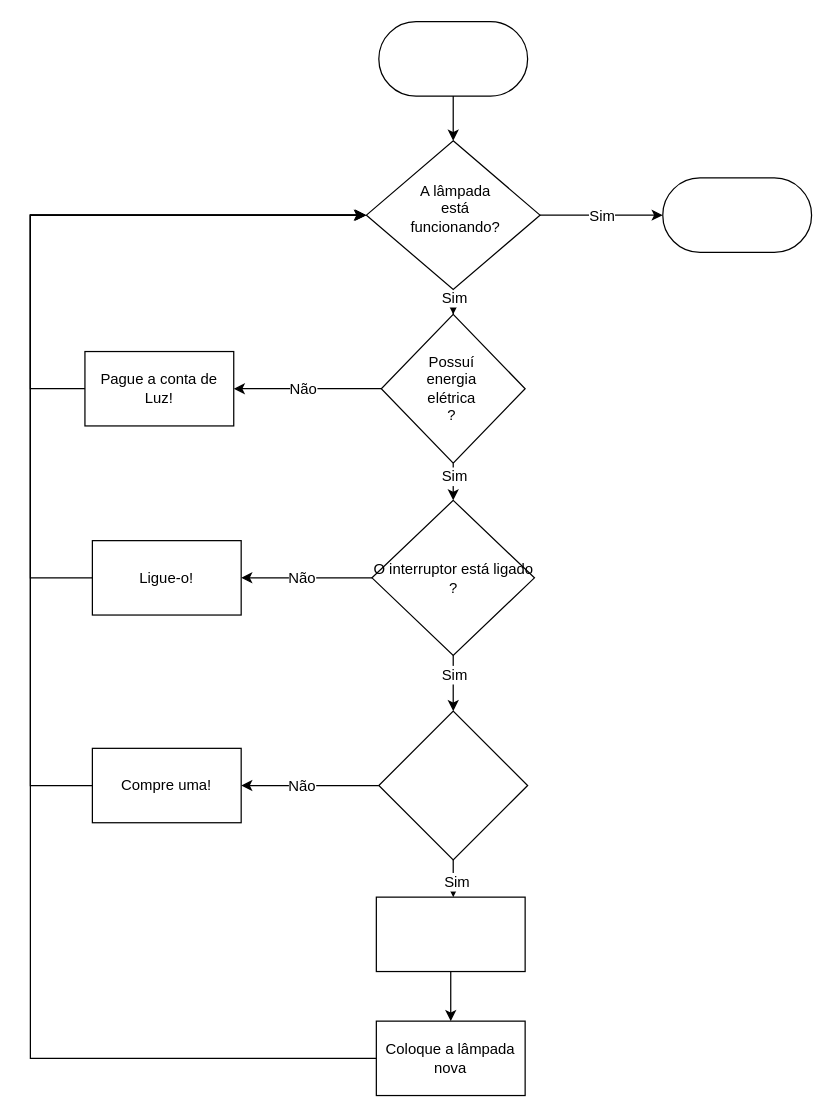
The diagram is 833 pixels wide and 1117 high, and some of its shapes have lost their labels. The box of each missing label's shape, as (x1, y1, x2, y2) in pixels:
Fim: (662, 177, 812, 252)
Início: (378, 20, 528, 96)
Possuí uma lâmpada nova ?: (378, 710, 528, 860)
Tire a lâmpada antiga: (375, 896, 525, 972)
